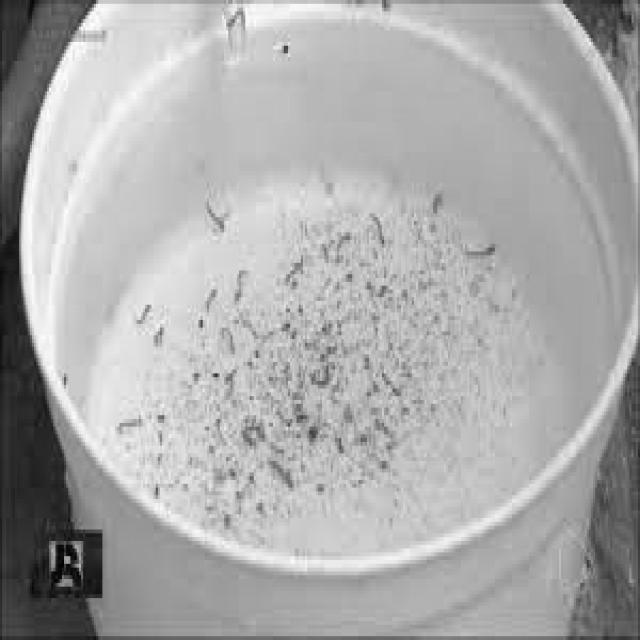larvas: (206, 205, 226, 236), (271, 461, 293, 488), (462, 245, 496, 260), (226, 7, 246, 32), (336, 230, 351, 262), (371, 214, 385, 246), (310, 366, 330, 388), (220, 326, 235, 355), (234, 271, 246, 304), (118, 418, 143, 431), (204, 287, 218, 308), (227, 365, 237, 392), (140, 302, 152, 324)
